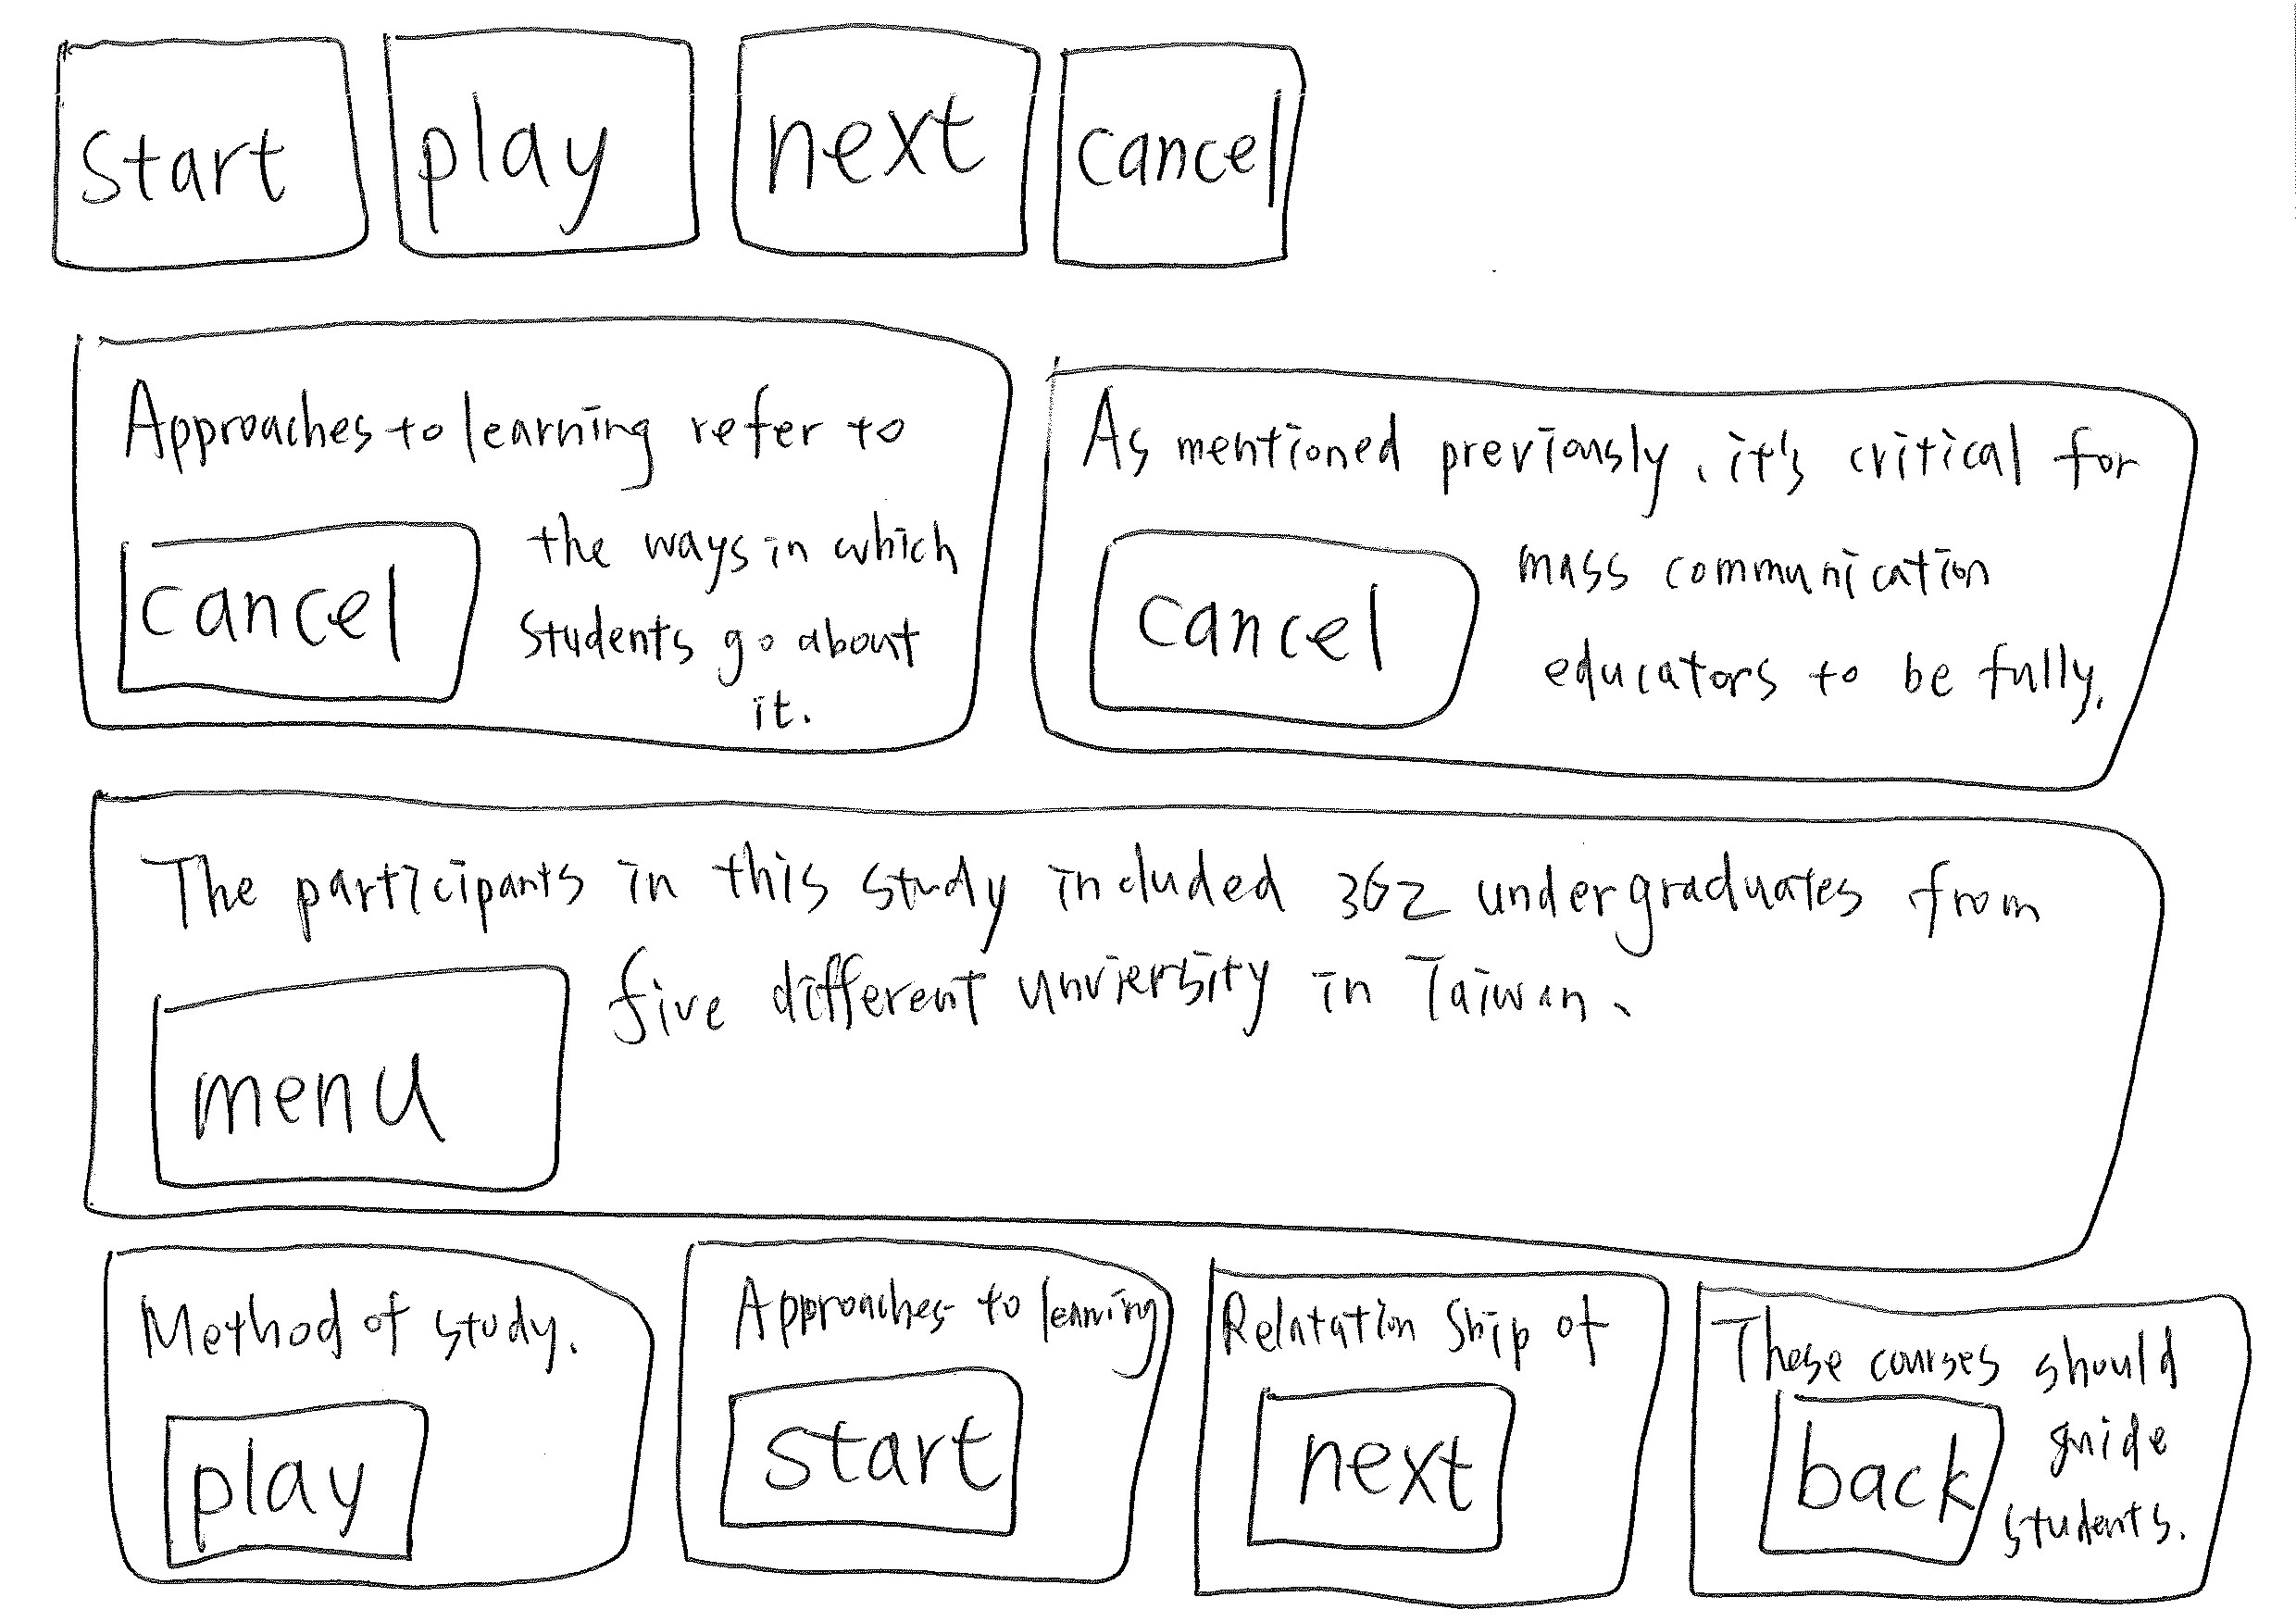back: (1724, 1383, 2036, 1583)
cancel: (1062, 507, 1508, 734), (105, 507, 493, 716)
double: (1018, 279, 2263, 790), (23, 276, 1008, 785)
menu: (123, 941, 588, 1194)
next: (720, 5, 1039, 295), (1245, 1364, 1555, 1564)
play: (372, 11, 714, 284), (133, 1378, 455, 1582)
quadruple: (1669, 1229, 2275, 1622), (61, 1222, 660, 1617), (662, 1227, 1190, 1622), (1178, 1227, 1706, 1622)
row: (26, 291, 2296, 807), (26, 734, 2296, 1250), (26, 1222, 2296, 1606), (26, 23, 2296, 295), (118, 822, 2034, 941), (1062, 390, 2168, 516)
single: (18, 760, 2247, 1283)
small-title: (114, 363, 916, 474), (135, 1274, 586, 1374), (720, 1260, 1155, 1359), (1734, 1310, 2154, 1399), (1223, 1290, 1617, 1366)
start: (25, 16, 384, 293), (704, 1357, 1050, 1552)
text: (520, 481, 964, 713), (588, 948, 1654, 1044), (1539, 534, 2085, 714), (2048, 1394, 2170, 1545)
